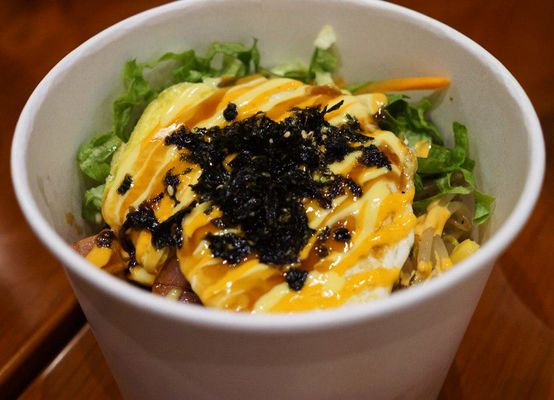curry: (380, 97, 447, 148)
sushi: (43, 5, 543, 393)
